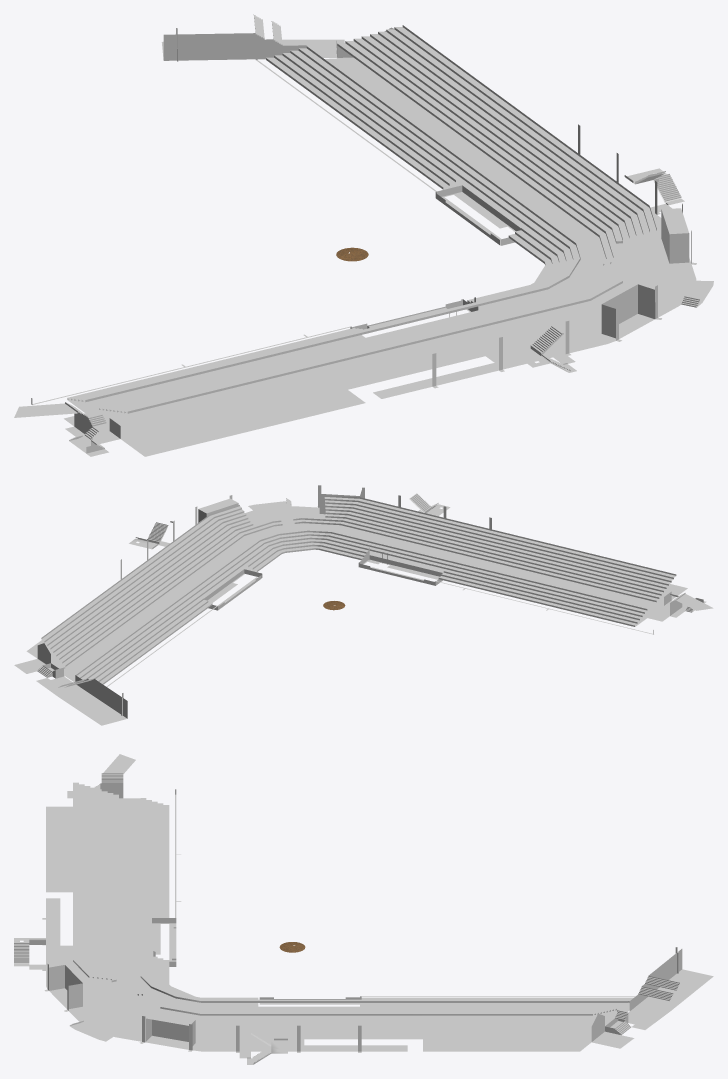
The model's file is Bleachers.fbx.
3 renders of one model, top to bottom at view 1: azimuth 30°, elevation 25°; view 2: azimuth 150°, elevation 25°; view 3: azimuth 270°, elevation 25°, orthographic. The views are drawn at different scales.
Visible parts, largest first — view 1: ID6002, ID6916, ID6944; view 2: ID6002, ID6944, ID6916; view 3: ID6002, ID6944, ID6916.
Boxes of the visible parts, left/top/right/bottom form: ID6002: left=14, top=14, right=713, bottom=456; ID6916: left=337, top=25, right=656, bottom=265; ID6944: left=99, top=270, right=622, bottom=413; ID6002: left=14, top=485, right=713, bottom=725; ID6944: left=292, top=495, right=676, bottom=602; ID6916: left=41, top=505, right=282, bottom=666; ID6002: left=14, top=754, right=713, bottom=1064; ID6944: left=73, top=782, right=142, bottom=995; ID6916: left=145, top=998, right=616, bottom=1015.
Bounding box in the file's own units: 14627 × 732 × 14879.
